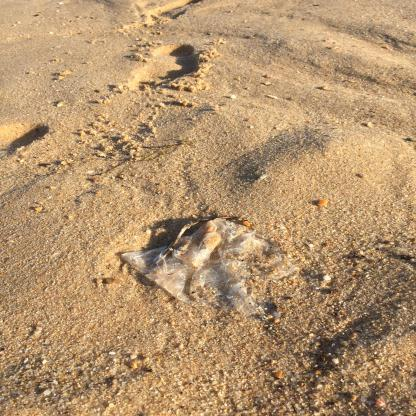plastik: (121, 219, 300, 323)
